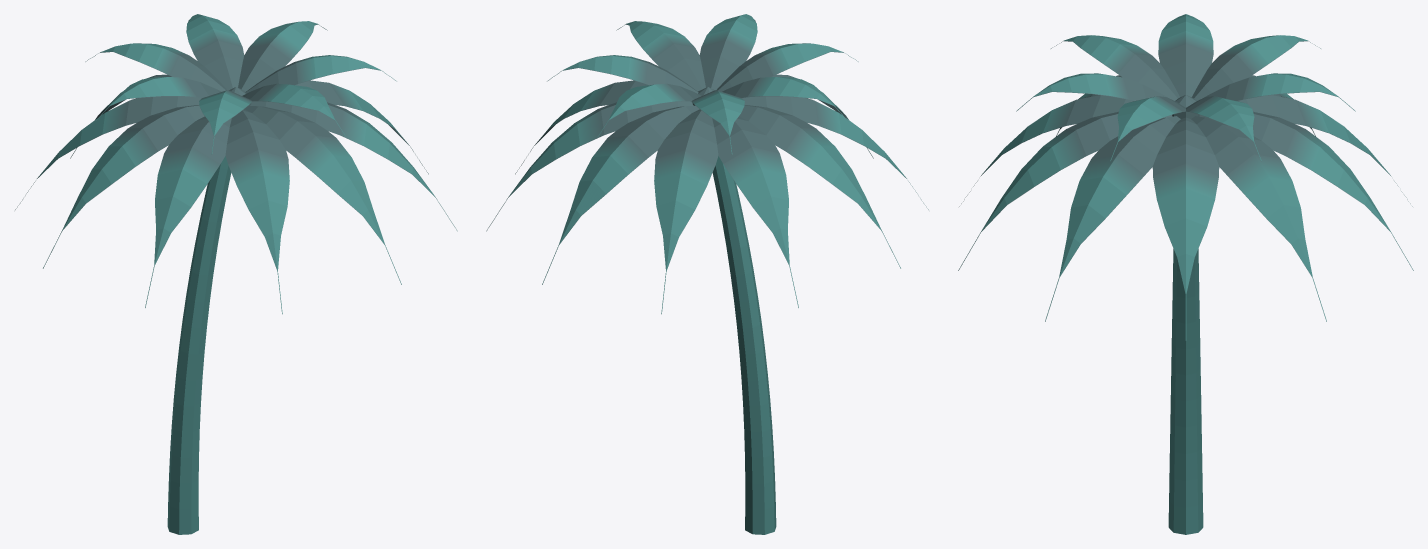
Rendered from KC32__AD_Ext_Palm_Tall.glb.
The picture shows the model from 3 angles, left to right: view 1: azimuth 30°, elevation 25°; view 2: azimuth 150°, elevation 25°; view 3: azimuth 270°, elevation 25°; orthographic projection. The views are drawn at different scales.
Visible parts, largest first — view 1: KC32_CORPS__AD_Ext_Palm_Tall; view 2: KC32_CORPS__AD_Ext_Palm_Tall; view 3: KC32_CORPS__AD_Ext_Palm_Tall.
Boxes of the visible parts, x1,y1,x2,y2 form: KC32_CORPS__AD_Ext_Palm_Tall: (15, 14, 457, 534); KC32_CORPS__AD_Ext_Palm_Tall: (486, 14, 928, 534); KC32_CORPS__AD_Ext_Palm_Tall: (958, 14, 1413, 534).
Size of the model in its own units: 6.6 by 7.46 by 6.28.
